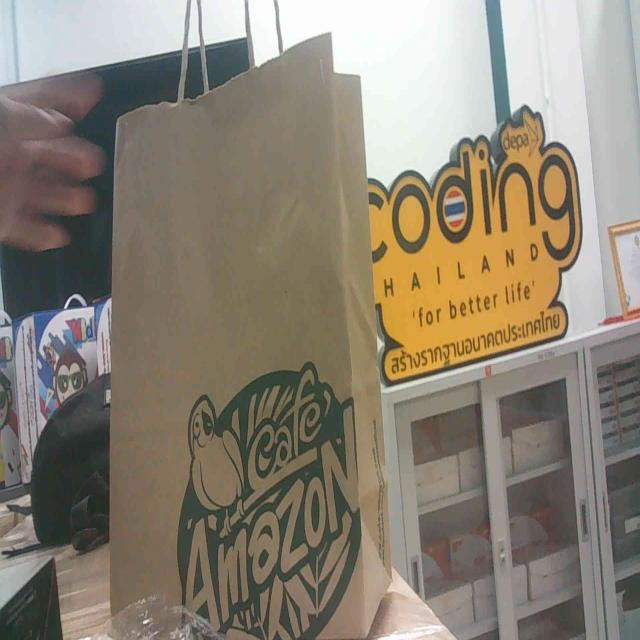bag: (102, 48, 409, 640)
